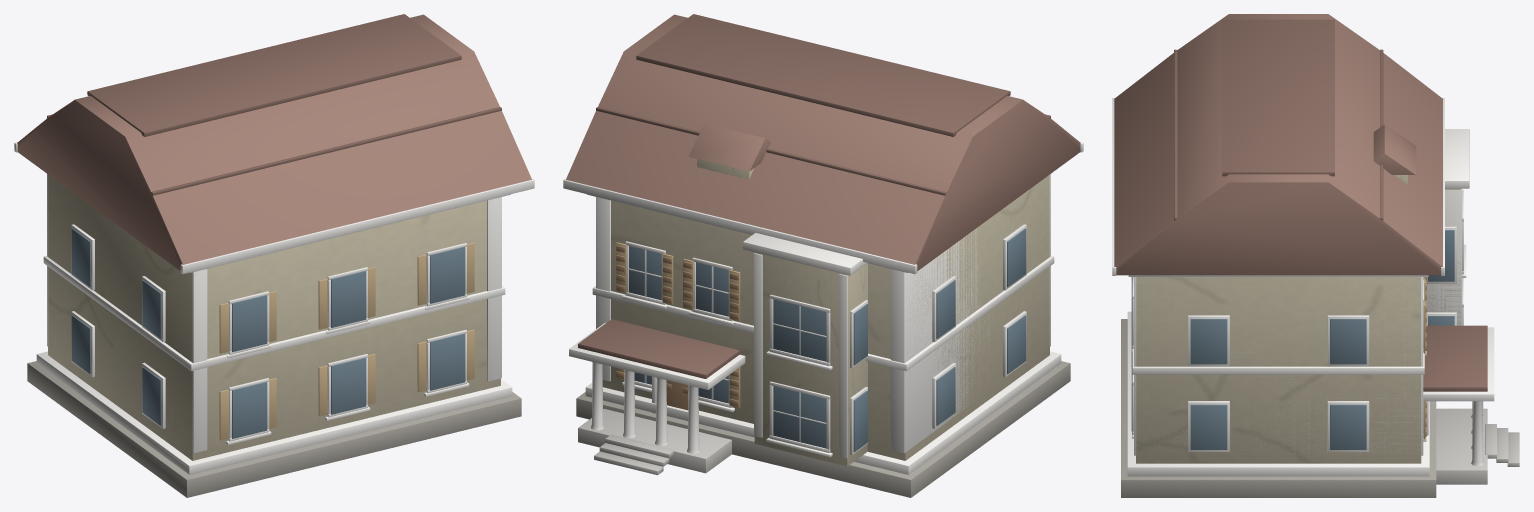
Rendered from th47_villa_walm.glb.
3 renders of one model, left to right at view 1: azimuth 30°, elevation 25°; view 2: azimuth 150°, elevation 25°; view 3: azimuth 270°, elevation 25°, orthographic.
Parts seen in each view (by area): view 1: Mansarddach, Cube.002, Cube.279, Cube, Cube.001, Cube.005, Cube.275, Cube.003, Cube.004, Cube.099, Cube.119, Cube.211 (+8 smaller); view 2: Mansarddach, Cube.002, Cube.279, Cube.003, Cube.007, Cube, Cube.265, Cube.001, Cube.263, Cube.277, Cube.005, Cube.010 (+23 smaller); view 3: Mansarddach, Cube.002, Cube.279, Cube, Cube.001, Cube.265, Cube.263, Cube.005, Cube.009, Cube.147, Cube.259, Gaubendach (+16 smaller).
Part boxes in pixels (x1,y1,x2,y2): Mansarddach: (17,14,531,270); Cube.002: (48,175,500,460); Cube.279: (87,14,461,136); Cube: (27,361,521,497); Cube.001: (36,351,512,474); Cube.005: (43,256,505,370); Cube.275: (180,179,534,274); Cube.003: (47,174,207,453); Cube.004: (487,197,501,381); Cube.099: (331,357,366,414); Cube.119: (430,333,465,390); Cube.211: (331,271,366,327); Mansarddach: (566,14,1080,270); Cube.002: (602,175,1049,460); Cube.279: (636,14,1010,136); Cube.003: (890,174,1050,453); Cube.007: (754,252,867,466); Cube: (576,361,1070,497); Cube.265: (578,319,739,378); Cube.001: (585,351,1061,474); Cube.263: (578,408,731,473); Cube.277: (563,179,917,274); Cube.005: (592,256,1054,370); Cube.010: (773,386,826,448); Mansarddach: (1114,14,1442,275); Cube.002: (1136,277,1421,463); Cube.279: (1222,19,1334,176); Cube: (1121,319,1436,497); Cube.001: (1127,311,1429,476); Cube.265: (1423,325,1487,391); Cube.263: (1436,408,1487,484); Cube.005: (1132,350,1424,374); Cube.009: (1426,188,1462,325); Cube.147: (1190,404,1227,449); Cube.259: (1190,319,1227,364); Gaubendach: (1373,124,1416,174).
Bounding box in the file's own units: 12.1 × 10.69 × 12.27.
12 materials, 1 textured.
